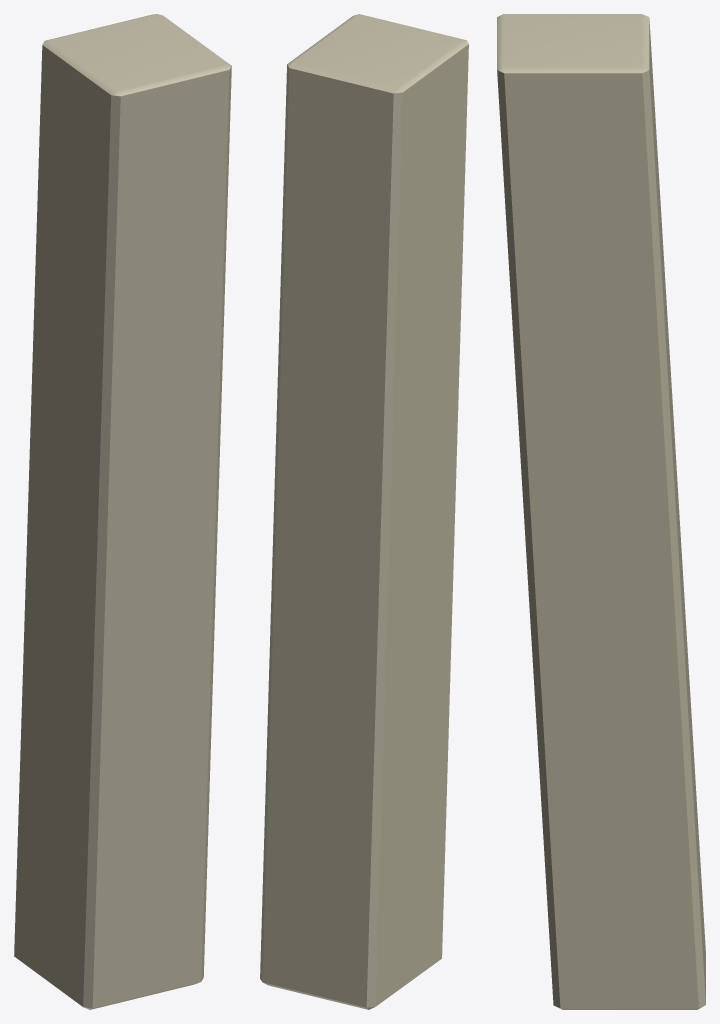
The model's file is Pillar0.fbx.
The picture shows the model from 3 angles, left to right: view 1: azimuth 30°, elevation 25°; view 2: azimuth 150°, elevation 25°; view 3: azimuth 270°, elevation 25°; orthographic projection. The views are drawn at different scales.
Parts seen in each view (by area): view 1: Wood_Beam; view 2: Wood_Beam; view 3: Wood_Beam.
Boxes of the visible parts, <box> form: Wood_Beam: <box>14,14,231,1009</box>; Wood_Beam: <box>260,14,468,1009</box>; Wood_Beam: <box>497,14,705,1009</box>.
Size of the model in its own units: 0.2423 by 1.81 by 0.3621.
